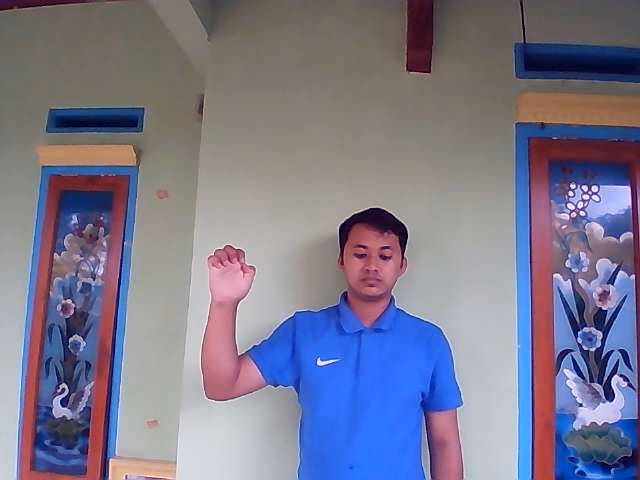E: (205, 243, 256, 301)
